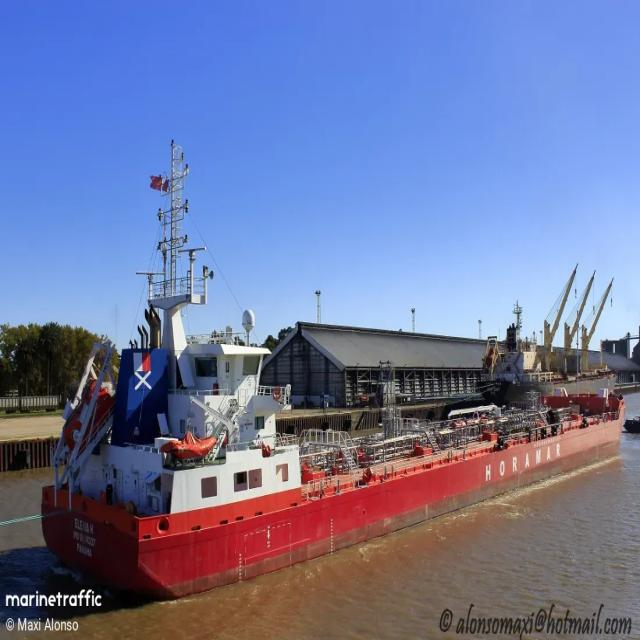Tanker: (42, 149, 624, 597)
